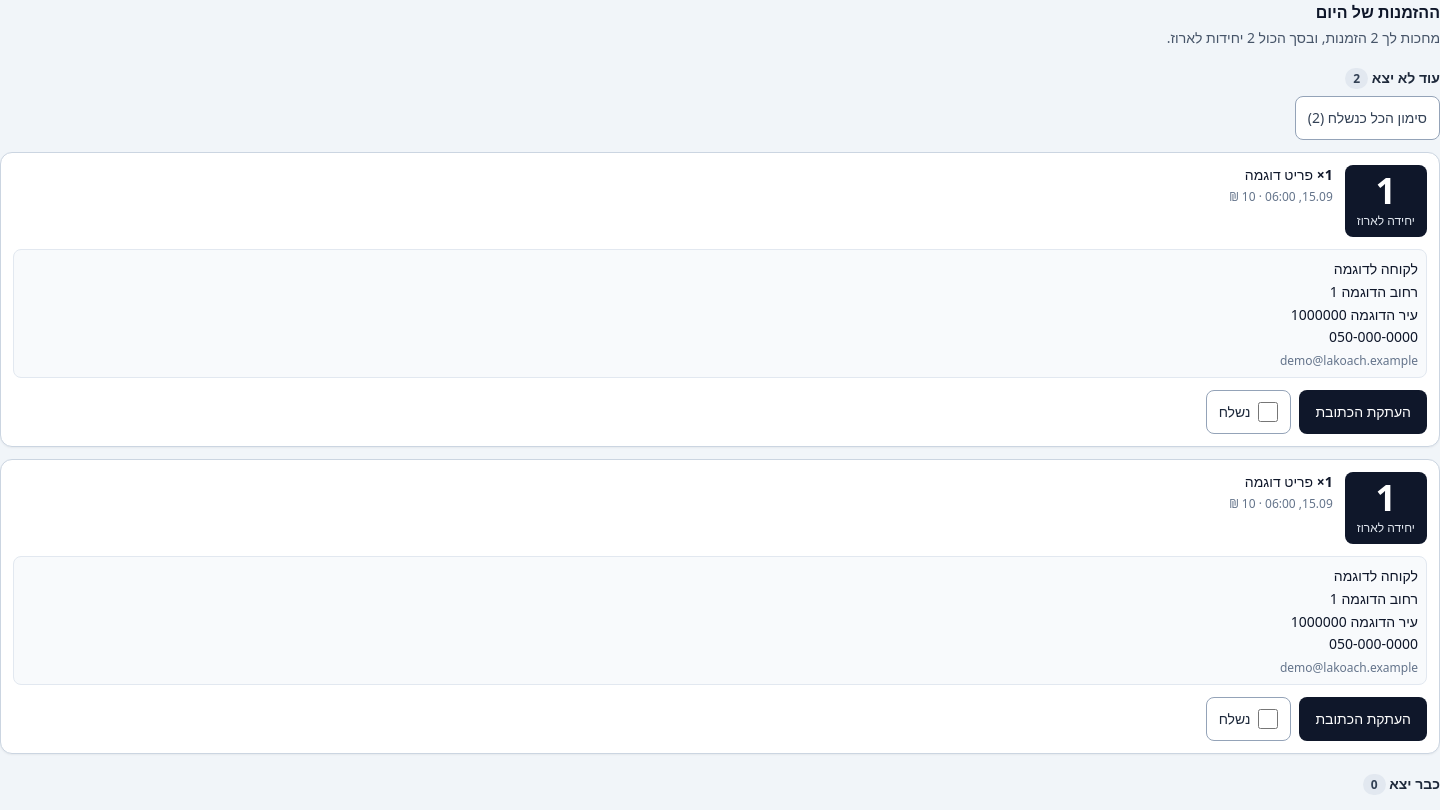
Test: ★★ אישור דו-שלבי › ★★ הלחיצה הראשונה לא שולחת כלום — היא שואלת
The width and height of the screenshot is (1440, 810).
Click the button "סימון הכל כנשלח (2)" at (1367, 118), box x1=1295 y1=96 x2=1439 y2=140
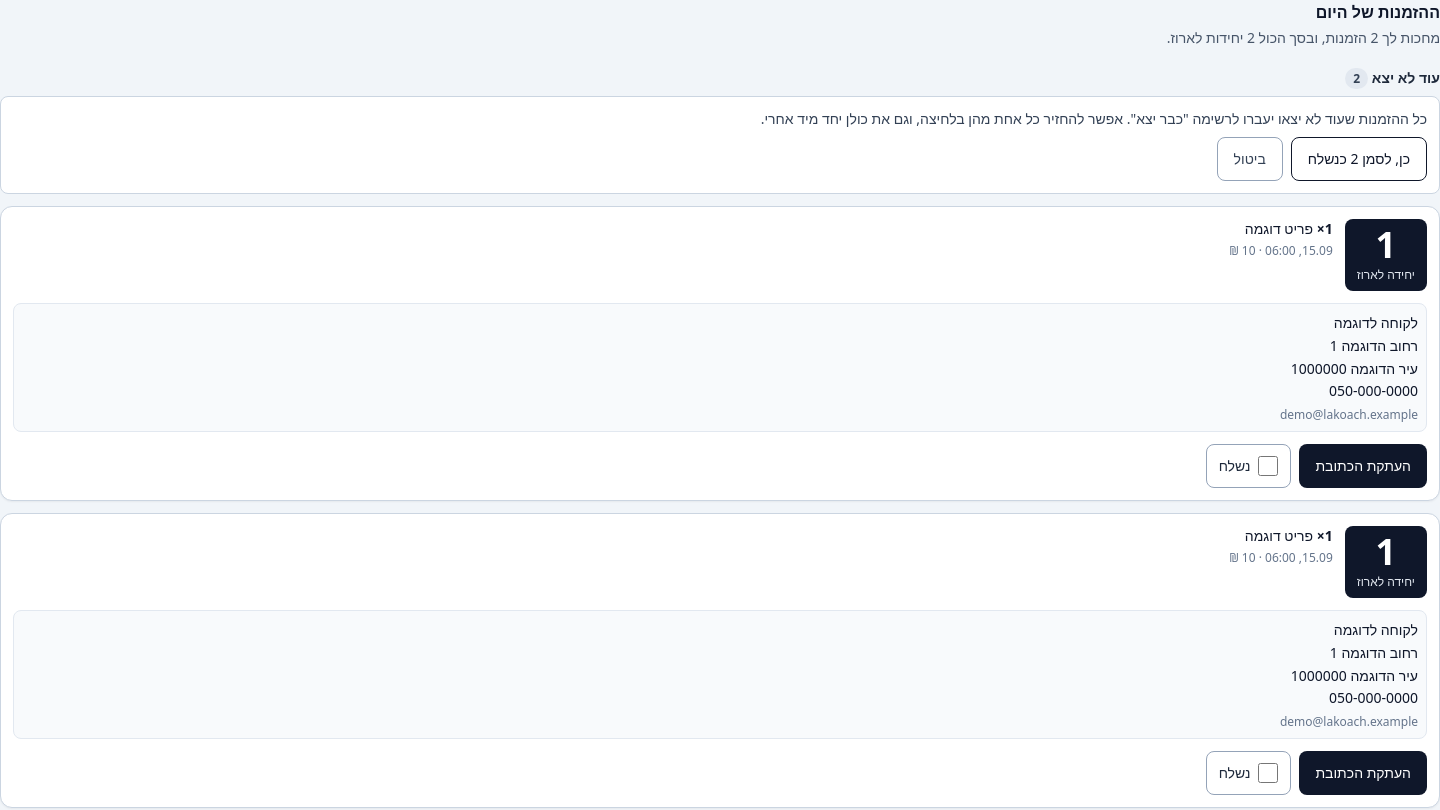
Check: the text "כל ההזמנות שעוד לא יצאו יעברו לרשימה \"כבר יצא\". אפשר להחזיר כל אחת מהן בלחיצה, וגם את כולן יחד מיד אחרי." is shown, box x1=761 y1=109 x2=1427 y2=128
Check: the button "כן, לסמן 2 כנשלח" is shown, box x1=1291 y1=137 x2=1427 y2=181
Check: the button "ביטול" is shown, box x1=1217 y1=137 x2=1283 y2=181
